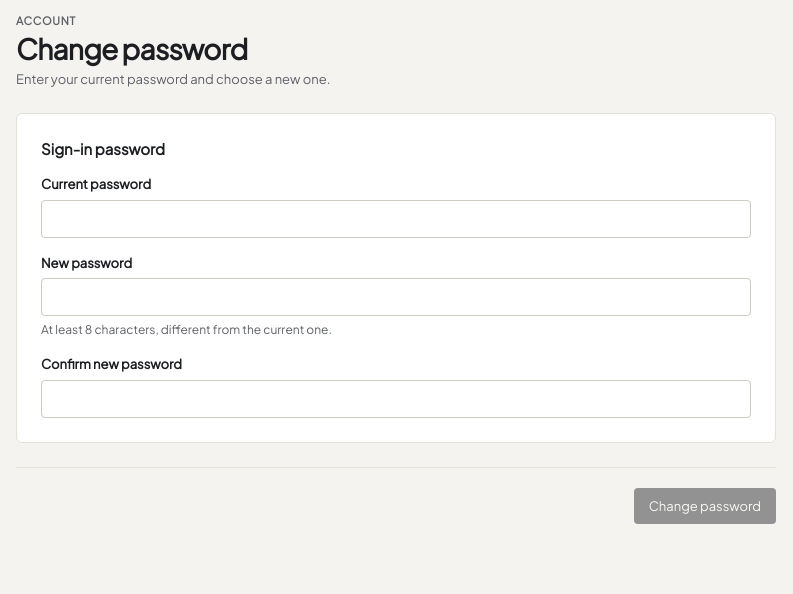
Test case: ChangePassword (Story 12.13) › changes the password and shows a success message
Type "old-password" into the password field labelled "Current password".
click(396, 219); type("old-password")  # box [41,200,751,238]
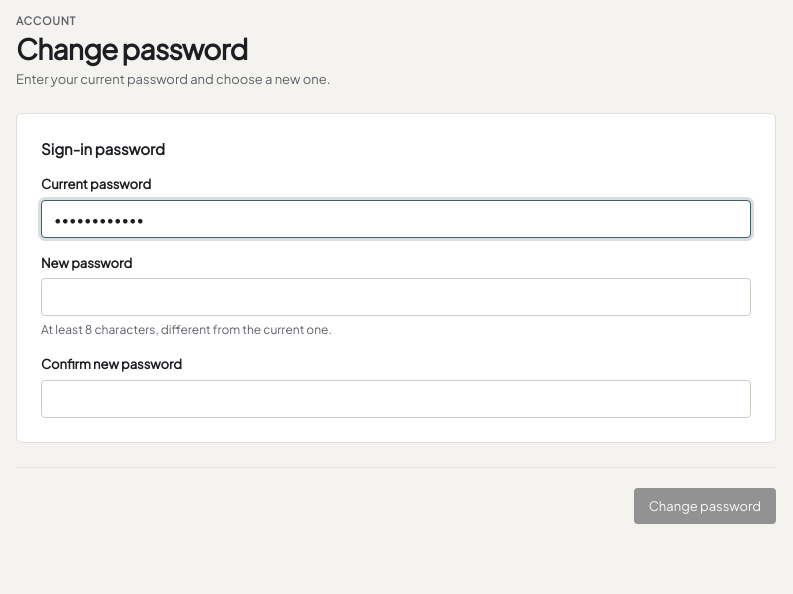
Type "new-password-1" into the password field labelled "New password".
click(396, 297); type("new-password-1")  # box [41,278,751,316]
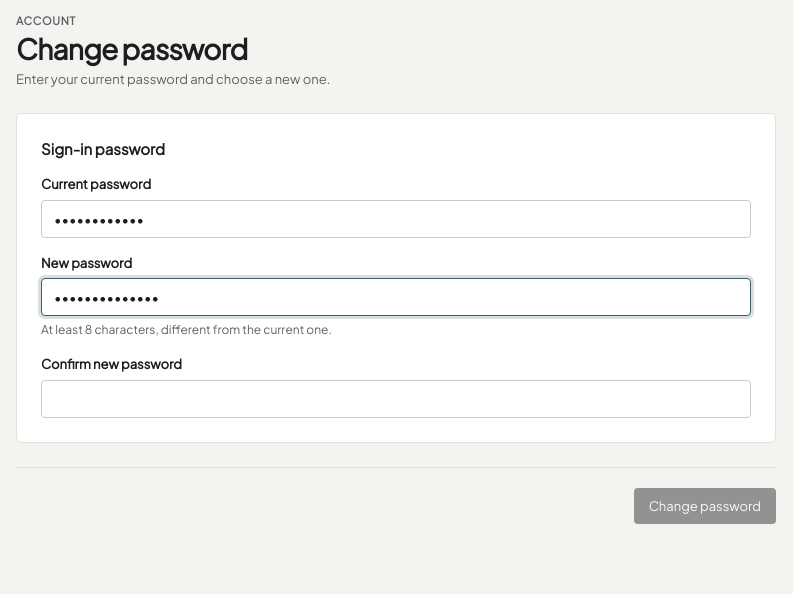
Type "new-password-1" into the password field labelled "Confirm new password".
click(396, 399); type("new-password-1")  # box [41,380,751,418]
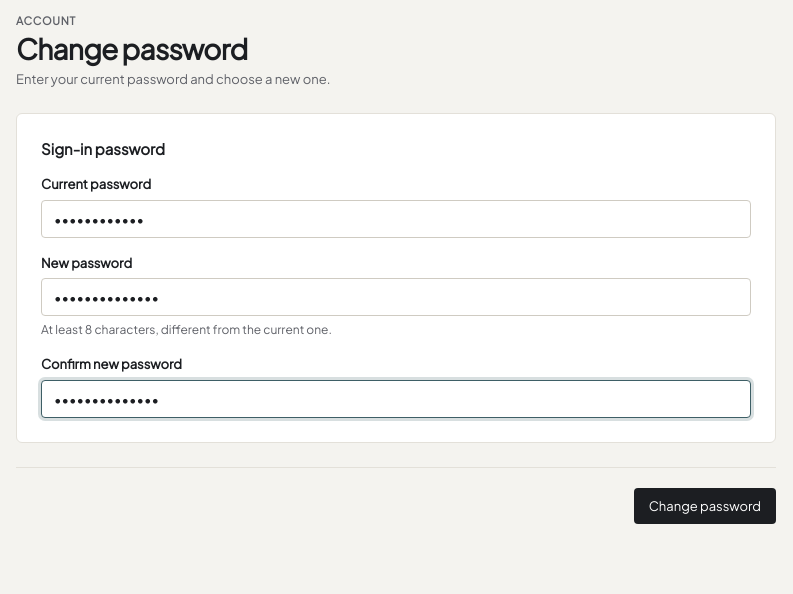
Click the button "Change password".
click(705, 506)  # box [634,488,776,524]
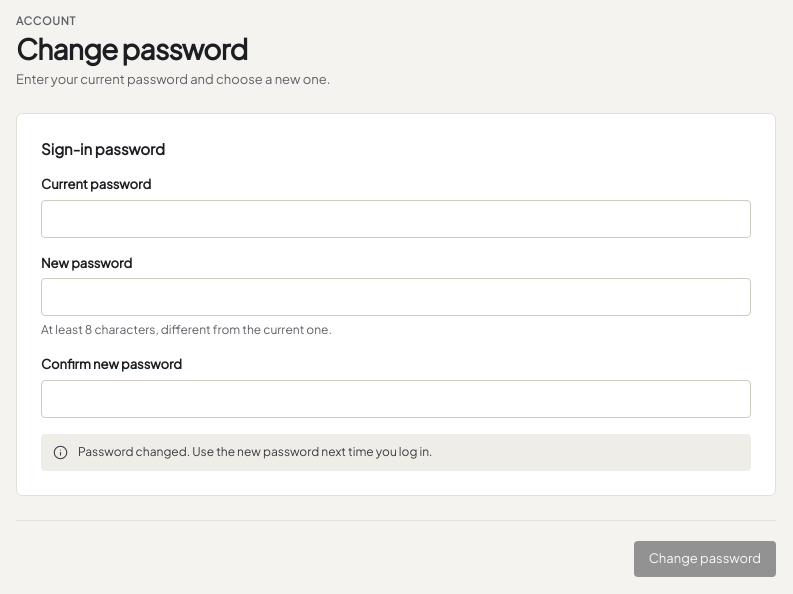
Result: the message shows "Password changed" at [78,444,432,459]
Result: the password field labelled "Current password" is empty at [41,200,751,238]
